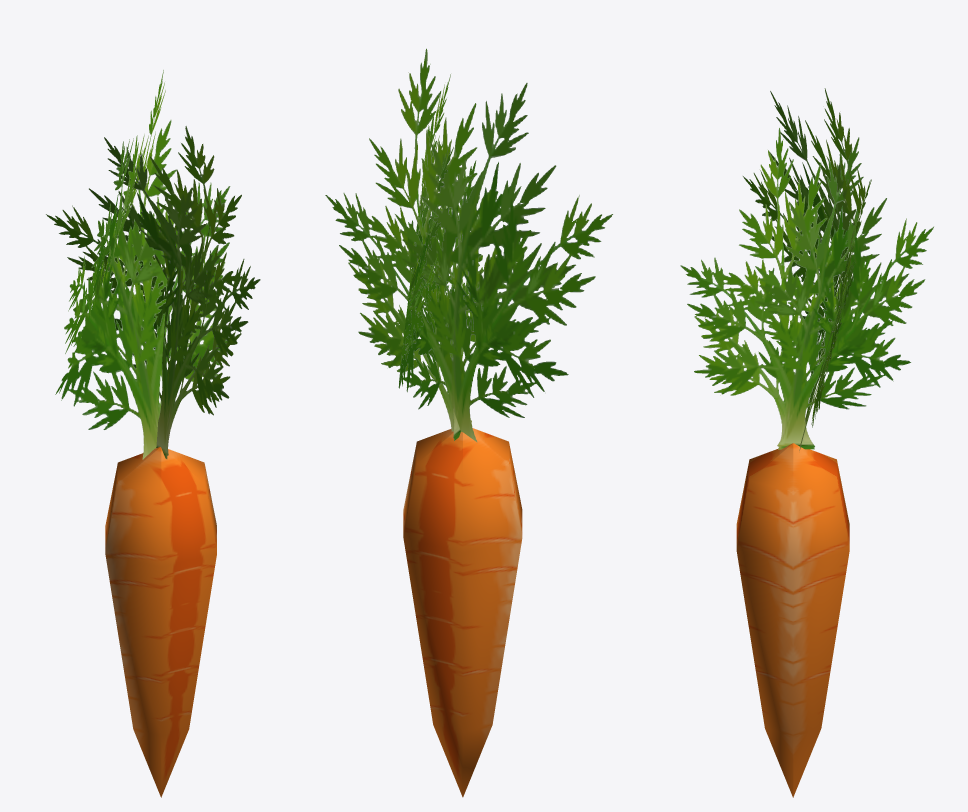
File: Carot_01.FBX
3 renders of one model, left to right at view 1: azimuth 30°, elevation 25°; view 2: azimuth 150°, elevation 25°; view 3: azimuth 270°, elevation 25°, orthographic. The views are drawn at different scales.
Parts seen in each view (by area): view 1: Leaves, Carot_01; view 2: Leaves, Carot_01; view 3: Leaves, Carot_01.
Boxes of the visible parts, x1,y1,x2,y2 form: Leaves: [46, 70, 260, 459]; Carot_01: [105, 447, 216, 797]; Leaves: [325, 48, 612, 442]; Carot_01: [403, 428, 522, 797]; Leaves: [680, 88, 933, 450]; Carot_01: [736, 443, 849, 797].
Size of the model in its own units: 1.37 by 3.65 by 1.36.
